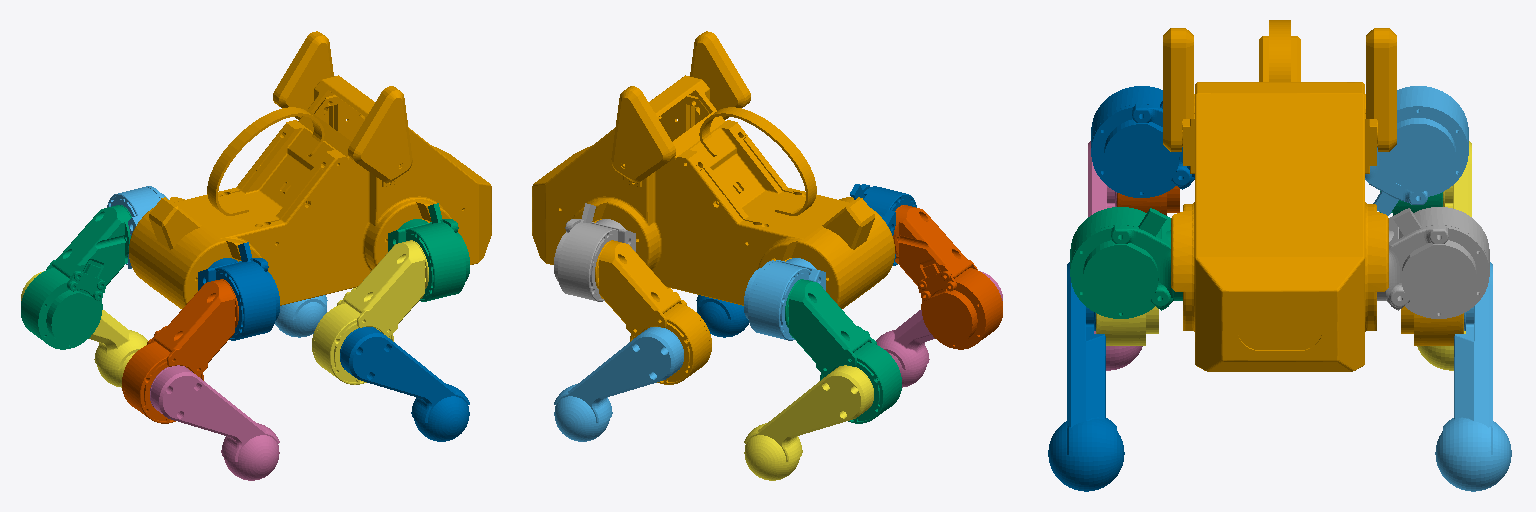
The robot description file, URDF, robot "pupper_v3":
<robot name="pupper_v3" version="1.0">

  <joint name="leg_front_r_1" type="revolute">
    <limit lower="-1.22000" upper="2.51000" effort="3.00000" velocity="100.00000" />
    <origin rpy="1.57080 0.00000 0.00000" xyz="0.07500 -0.08350 0.00000" />
    <parent link="base_link" />
    <child link="leg_front_r_1" />
    <axis xyz="0.00000 0.00000 1.00000" />
  </joint>
  <joint name="leg_front_r_2" type="revolute">
    <limit lower="-0.42000" upper="3.14000" effort="3.00000" velocity="100.00000" />
    <origin rpy="1.49199 -1.57080 -1.49198" xyz="0.00000 0.00000 0.00000" />
    <parent link="leg_front_r_1" />
    <child link="leg_front_r_2" />
    <axis xyz="0.00000 0.00000 1.00000" />
  </joint>
  <joint name="leg_front_r_3" type="revolute">
    <limit lower="-2.79000" upper="0.63000" effort="3.00000" velocity="100.00000" />
    <origin rpy="-0.00000 1.57080 0.00000" xyz="0.00000 -0.04940 0.06850" />
    <parent link="leg_front_r_2" />
    <child link="leg_front_r_3" />
    <axis xyz="0.00000 0.00000 1.00000" />
  </joint>

  <joint name="leg_front_l_1" type="revolute">
    <limit lower="-1.22000" upper="2.51000" effort="3.00000" velocity="100.00000" />
    <origin rpy="-1.57080 0.00000 0.00000" xyz="0.07500 0.08350 0.00000" />
    <parent link="base_link" />
    <child link="leg_front_l_1" />
    <axis xyz="0.00000 0.00000 1.00000" />
  </joint>
  <joint name="leg_front_l_2" type="revolute">
    <limit lower="-0.42000" upper="3.14000" effort="3.00000" velocity="100.00000" />
    <origin rpy="1.57080 1.57080 -1.57080" xyz="0.00000 0.00000 0.00000" />
    <parent link="leg_front_l_1" />
    <child link="leg_front_l_2" />
    <axis xyz="0.00000 0.00000 1.00000" />
  </joint>
  <joint name="leg_front_l_3" type="revolute">
    <limit lower="-2.79000" upper="0.63000" effort="3.00000" velocity="100.00000" />
    <origin rpy="-0.00000 1.57080 3.14159" xyz="0.00000 -0.04940 0.06850" />
    <parent link="leg_front_l_2" />
    <child link="leg_front_l_3" />
    <axis xyz="0.00000 0.00000 1.00000" />
  </joint>


  <joint name="leg_back_r_1" type="revolute">
    <limit lower="-1.22000" upper="2.51000" effort="3.00000" velocity="100.00000" />
    <origin rpy="1.57080 0.00000 0.00000" xyz="-0.07500 -0.07250 0.00000" />
    <parent link="base_link" />
    <child link="leg_back_r_1" />
    <axis xyz="0.00000 0.00000 1.00000" />
  </joint>
  <joint name="leg_back_r_2" type="revolute">
    <limit lower="-0.42000" upper="3.14000" effort="3.00000" velocity="100.00000" />
    <origin rpy="1.49199 -1.57080 -1.49198" xyz="0.00000 0.00000 0.00000" />
    <parent link="leg_back_r_1" />
    <child link="leg_back_r_2" />
    <axis xyz="0.00000 0.00000 1.00000" />
  </joint>
  <joint name="leg_back_r_3" type="revolute">
    <limit lower="-2.79000" upper="0.63000" effort="3.00000" velocity="100.00000" />
    <origin rpy="-0.00000 1.57080 0.00000" xyz="0.00000 -0.04940 0.06850" />
    <parent link="leg_back_r_2" />
    <child link="leg_back_r_3" />
    <axis xyz="0.00000 0.00000 1.00000" />
  </joint>

  <joint name="leg_back_l_1" type="revolute">
    <limit lower="-1.22000" upper="2.51000" effort="3.00000" velocity="100.00000" />
    <origin rpy="-1.57080 0.00000 0.00000" xyz="-0.07500 0.07250 0.00000" />
    <parent link="base_link" />
    <child link="leg_back_l_1" />
    <axis xyz="0.00000 0.00000 1.00000" />
  </joint>
  <joint name="leg_back_l_2" type="revolute">
    <limit lower="-0.42000" upper="3.14000" effort="3.00000" velocity="100.00000" />
    <origin rpy="1.57080 1.57080 -1.57080" xyz="0.00000 0.00000 0.00000" />
    <parent link="leg_back_l_1" />
    <child link="leg_back_l_2" />
    <axis xyz="0.00000 0.00000 1.00000" />
  </joint>
  <joint name="leg_back_l_3" type="revolute">
    <limit lower="-2.79000" upper="0.63000" effort="3.00000" velocity="100.00000" />
    <origin rpy="-0.00000 1.57080 3.14159" xyz="0.00000 -0.04940 0.06850" />
    <parent link="leg_back_l_2" />
    <child link="leg_back_l_3" />
    <axis xyz="0.00000 0.00000 1.00000" />
  </joint>


  <link name="base_link">
    <collision name="body_collision">
      <origin rpy="-1.57080 -0.00000 1.57080" xyz="0.02146 -0.00000 0.03345" />
      <geometry>
        <box size="0.09014 0.12758 0.25943" />
      </geometry>
    </collision>
    <inertial>
      <inertia ixx="0.00240" ixy="0.000000" ixz="-0.0005" iyy="0.00850" iyz="0.00000" izz="0.00850" />
      <origin rpy="0.00000 0.00000 0.00000" xyz="0.02500 0.00000 0.01500" />
      <mass value="1.506" />
    </inertial>
    <visual name="body">
      <origin rpy="-1.57080 -0.00000 1.57080" xyz="0.00000 0.00000 0.00000" />
      <geometry>
        <mesh filename="../meshes/dae/Body V4 v70.001.dae" scale="1.00000 1.00000 1.00000" />
      </geometry>
    </visual>
  </link>
  <link name="leg_back_l_1">
    <inertial>
      <inertia ixx="0.000074" ixy="0.0" ixz="0.0" iyy="0.000058" iyz="0.0" izz="0.000048" />
      <origin rpy="0.00000 0.00000 0.00000" xyz="-0.00129 0.00081 -0.00595" />
      <mass value="0.18000" />
    </inertial>
    <visual name="Leg Assembly For Flanged v26.012">
      <origin rpy="0.00000 0.00000 3.14159" xyz="0.00000 0.00000 -0.02800" />
      <geometry>
        <mesh filename="../meshes/dae/Leg Assembly For Flanged v26.013.dae"
          scale="1.00000 1.00000 1.00000" />
      </geometry>
    </visual>
  </link>
  <link name="leg_back_l_2">
    <collision name="Cylinder.003">
      <origin rpy="-0.00000 1.57080 0.00000" xyz="0.00000 -0.04940 0.06850" />
      <geometry>
        <cylinder radius="0.02500" length="0.03000" />
      </geometry>
    </collision>
    <inertial>
      <inertia ixx="0.000113" ixy="0.0" ixz="0.0" iyy="0.000067" iyz="0.000025" izz="0.000077" />
      <origin rpy="0.00000 0.00000 0.00000" xyz="-0.00173 -0.03340 0.05419" />
      <mass value="0.18600" />
    </inertial>
    <visual name="Leg Assembly For Flanged v26.013">
      <origin rpy="0.26213 -1.57080 2.87947" xyz="+0.02800 -0.00000 -0.00000" />
      <geometry>
        <mesh filename="../meshes/dae/Leg Assembly For Flanged v26.014.dae"
          scale="1.00000 1.00000 -1.00000" />
      </geometry>
    </visual>
  </link>
  <link name="leg_back_l_3">
    <collision name="Leg Assembly For Flanged v26.016">
      <origin rpy="-0.00000 0.00000 3.14159" xyz="0.06231 0.06216 0.01800" />
      <geometry>
        <sphere radius="0.01995" />
      </geometry>
    </collision>
    <inertial>
      <inertia ixx="0.0000405" ixy="-0.000035" ixz="0.0" iyy="0.0000405" iyz="0.0" izz="0.000077" />
      <origin rpy="0.00000 0.00000 0.00000" xyz="0.03866 0.03585 0.01833" />
      <mass value="0.05000" />
    </inertial>
    <visual name="Leg Assembly For Flanged v26.014">
      <origin rpy="3.14159 0.00000 3.14159" xyz="0.06850 -0.04940 -0.02800" />
      <geometry>
        <mesh filename="../meshes/dae/Leg Assembly For Flanged v26.015.dae"
          scale="1.00000 1.00000 -1.00000" />
      </geometry>
    </visual>
  </link>
  <link name="leg_back_r_1">
    <inertial>
      <inertia ixx="0.000074" ixy="0.0" ixz="0.0" iyy="0.000058" iyz="0.0" izz="0.000048" />
      <origin rpy="0.00000 0.00000 0.00000" xyz="-0.00129 0.00081 -0.00595" />
      <mass value="0.18000" />
    </inertial>
    <visual name="Leg Assembly For Flanged v26.004">
      <origin rpy="0.00000 0.00000 3.14159" xyz="0.00000 0.00000 -0.02800" />
      <geometry>
        <mesh filename="../meshes/dae/Leg Assembly For Flanged v26.005.dae"
          scale="1.00000 1.00000 1.00000" />
      </geometry>
    </visual>
  </link>
  <link name="leg_back_r_2">
    <collision name="Cylinder.001">
      <origin rpy="-0.00000 1.57080 0.00000" xyz="0.00000 -0.04940 0.06850" />
      <geometry>
        <cylinder radius="0.02500" length="0.03000" />
      </geometry>
    </collision>
    <inertial>
      <inertia ixx="0.000113" ixy="0.0" ixz="0.0" iyy="0.000067" iyz="0.000025" izz="0.000077" />
      <origin rpy="0.00000 0.00000 0.00000" xyz="-0.00173 -0.03340 0.05419" />
      <mass value="0.18600" />
    </inertial>
    <visual name="Leg Assembly For Flanged v26.005">
      <origin rpy="0.26213 -1.57080 2.87947" xyz="-0.02800 -0.00000 -0.00000" />
      <geometry>
        <mesh filename="../meshes/dae/Leg Assembly For Flanged v26.006.dae"
          scale="1.00000 1.00000 1.00000" />
      </geometry>
    </visual>
  </link>
  <link name="leg_back_r_3">
    <collision name="Leg Assembly For Flanged v26.008">
      <origin rpy="-0.00000 0.00000 3.14159" xyz="0.06231 -0.06216 0.01800" />
      <geometry>
        <sphere radius="0.01995" />
      </geometry>
    </collision>
    <inertial>
      <inertia ixx="0.0000405" ixy="0.000035" ixz="0.0" iyy="0.0000405" iyz="0.0" izz="0.000077" />
      <origin rpy="0.00000 0.00000 0.00000" xyz="0.03866 -0.03585 0.01833" />
      <mass value="0.05000" />
    </inertial>
    <visual name="Leg Assembly For Flanged v26.006">
      <origin rpy="-0.00000 0.00000 3.14159" xyz="0.06850 0.04940 -0.02800" />
      <geometry>
        <mesh filename="../meshes/dae/Leg Assembly For Flanged v26.007.dae"
          scale="1.00000 1.00000 1.00000" />
      </geometry>
    </visual>
  </link>
  <link name="leg_front_l_1">
    <inertial>
      <inertia ixx="0.000074" ixy="0.0" ixz="0.0" iyy="0.000058" iyz="0.0" izz="0.000048" />
      <origin rpy="0.00000 0.00000 0.00000" xyz="-0.00129 0.00081 -0.00595" />
      <mass value="0.18000" />
    </inertial>
    <visual name="Leg Assembly For Flanged v26.009">
      <origin rpy="0.00000 0.00000 3.14159" xyz="0.00000 0.00000 -0.02800" />
      <geometry>
        <mesh filename="../meshes/dae/Leg Assembly For Flanged v26.010.dae"
          scale="1.00000 -1.00000 1.00000" />
      </geometry>
    </visual>
  </link>
  <link name="leg_front_l_2">
    <collision name="Cylinder.002">
      <origin rpy="-0.00000 1.57080 0.00000" xyz="0.00000 -0.04940 0.06850" />
      <geometry>
        <cylinder radius="0.02500" length="0.03000" />
      </geometry>
    </collision>
    <inertial>
      <inertia ixx="0.000113" ixy="0.0" ixz="0.0" iyy="0.000067" iyz="0.000025" izz="0.000077" />
      <origin rpy="0.00000 0.00000 0.00000" xyz="-0.00173 -0.03340 0.05419" />
      <mass value="0.18600" />
    </inertial>
    <visual name="Leg Assembly For Flanged v26.010">
      <origin rpy="0.26213 -1.57080 2.87947" xyz="+0.02800 -0.00000 -0.00000" />
      <geometry>
        <mesh filename="../meshes/dae/Leg Assembly For Flanged v26.011.dae"
          scale="1.00000 1.00000 -1.00000" />
      </geometry>
    </visual>
  </link>
  <link name="leg_front_l_3">
    <collision name="Leg Assembly For Flanged v26.015">
      <origin rpy="-0.00000 0.00000 3.14159" xyz="0.06231 0.06216 0.01800" />
      <geometry>
        <sphere radius="0.01995" />
      </geometry>
    </collision>
    <inertial>
      <inertia ixx="0.0000405" ixy="-0.000035" ixz="0.0" iyy="0.0000405" iyz="0.0" izz="0.000077" />
      <origin rpy="0.00000 0.00000 0.00000" xyz="0.03866 0.03585 0.01833" />
      <mass value="0.05000" />
    </inertial>
    <visual name="Leg Assembly For Flanged v26.011">
      <origin rpy="3.14159 0.00000 3.14159" xyz="0.06850 -0.04940 -0.02800" />
      <geometry>
        <mesh filename="../meshes/dae/Leg Assembly For Flanged v26.012.dae"
          scale="1.00000 1.00000 -1.00000" />
      </geometry>
    </visual>
  </link>
  <link name="leg_front_r_1">
    <inertial>
      <inertia ixx="0.000074" ixy="0.0" ixz="0.0" iyy="0.000058" iyz="0.0" izz="0.000048" />
      <origin rpy="0.00000 0.00000 0.00000" xyz="-0.00129 0.00081 -0.00595" />
      <mass value="0.18000" />
    </inertial>
    <visual name="Leg Assembly For Flanged v26.001">
      <origin rpy="0.00000 0.00000 3.14159" xyz="0.00000 0.00000 -0.02800" />
      <geometry>
        <mesh filename="../meshes/dae/Leg Assembly For Flanged v26.001.dae"
          scale="1.00000 1.00000 1.00000" />
      </geometry>
    </visual>
  </link>
  <link name="leg_front_r_2">
    <collision name="Cylinder">
      <origin rpy="-0.00000 1.57080 0.00000" xyz="0.00000 -0.04940 0.06850" />
      <geometry>
        <cylinder radius="0.02500" length="0.03000" />
      </geometry>
    </collision>
    <inertial>
      <inertia ixx="0.000113" ixy="0.0" ixz="0.0" iyy="0.000067" iyz="0.000025" izz="0.000077" />
      <origin rpy="0.00000 0.00000 0.00000" xyz="-0.00173 -0.03340 0.05419" />
      <mass value="0.18600" />
    </inertial>
    <visual name="Leg Assembly For Flanged v26.002">
      <origin rpy="0.26213 -1.57080 2.87947" xyz="-0.02800 -0.00000 -0.00000" />
      <geometry>
        <mesh filename="../meshes/dae/Leg Assembly For Flanged v26.002.dae"
          scale="1.00000 1.00000 1.00000" />
      </geometry>
    </visual>
  </link>
  <link name="leg_front_r_3">
    <collision name="Leg Assembly For Flanged v26.007">
      <origin rpy="-0.00000 0.00000 3.14159" xyz="0.06231 -0.06216 0.01800" />
      <geometry>
        <sphere radius="0.01995" />
      </geometry>
    </collision>
    <inertial>
      <inertia ixx="0.0000405" ixy="0.000035" ixz="0.0" iyy="0.0000405" iyz="0.0" izz="0.000077" />
      <origin rpy="0.00000 0.00000 0.00000" xyz="0.03866 -0.03585 0.01833" />
      <mass value="0.05000" />
    </inertial>
    <visual name="Leg Assembly For Flanged v26.003">
      <origin rpy="-0.00000 0.00000 3.14159" xyz="0.06850 0.04940 -0.02800" />
      <geometry>
        <mesh filename="../meshes/dae/Leg Assembly For Flanged v26.003.dae"
          scale="1.00000 1.00000 1.00000" />
      </geometry>
    </visual>
  </link>
</robot>

--- What the picture shows (computed from the rendered views, not written in the file) ---
3 views of the same robot in one strip: view 1: azimuth 30°, elevation 25°; view 2: azimuth 150°, elevation 25°; view 3: azimuth 270°, elevation 25° (orthographic).
Model pupper_v3 with 13 links and 12 joints (12 revolute), rooted at base_link, posed all joints at 0.
Visible links, largest first — view 1: base_link, leg_back_l_2, leg_back_r_2, leg_front_r_2, leg_front_r_3, leg_back_r_3, leg_front_r_1, leg_back_r_1, leg_back_l_3, leg_front_l_3, leg_back_l_1; view 2: base_link, leg_back_r_2, leg_back_l_2, leg_front_l_2, leg_front_l_3, leg_back_l_3, leg_front_l_1, leg_back_l_1, leg_back_r_3, leg_front_r_3, leg_back_r_1; view 3: base_link, leg_front_l_1, leg_front_r_1, leg_front_l_3, leg_front_r_3, leg_back_l_1, leg_back_r_1, leg_back_l_3, leg_back_r_3, leg_front_l_2, leg_front_r_2, leg_back_r_2.
Link boxes in pixels (bbox=[...]): base_link: bbox=[129, 31, 491, 308]; leg_back_l_2: bbox=[21, 205, 131, 349]; leg_back_r_2: bbox=[122, 279, 238, 423]; leg_front_r_2: bbox=[312, 240, 428, 384]; leg_front_r_3: bbox=[340, 327, 469, 441]; leg_back_r_3: bbox=[150, 365, 279, 480]; leg_front_r_1: bbox=[388, 203, 469, 301]; leg_back_r_1: bbox=[198, 242, 279, 340]; leg_back_l_3: bbox=[21, 271, 147, 387]; leg_front_l_3: bbox=[275, 295, 327, 337]; leg_back_l_1: bbox=[107, 186, 168, 268]; base_link: bbox=[532, 31, 894, 308]; leg_back_r_2: bbox=[893, 205, 1002, 349]; leg_back_l_2: bbox=[785, 279, 901, 423]; leg_front_l_2: bbox=[595, 240, 711, 384]; leg_front_l_3: bbox=[554, 327, 683, 441]; leg_back_l_3: bbox=[744, 365, 873, 480]; leg_front_l_1: bbox=[554, 203, 635, 301]; leg_back_l_1: bbox=[744, 258, 825, 340]; leg_back_r_3: bbox=[876, 271, 1002, 387]; leg_front_r_3: bbox=[696, 295, 748, 337]; leg_back_r_1: bbox=[850, 184, 916, 265]; base_link: bbox=[1163, 20, 1396, 371]; leg_front_l_1: bbox=[1377, 207, 1489, 318]; leg_front_r_1: bbox=[1070, 207, 1182, 318]; leg_front_l_3: bbox=[1435, 262, 1511, 491]; leg_front_r_3: bbox=[1048, 262, 1124, 491]; leg_back_l_1: bbox=[1365, 86, 1468, 215]; leg_back_r_1: bbox=[1091, 86, 1194, 197]; leg_back_l_3: bbox=[1417, 141, 1471, 370]; leg_back_r_3: bbox=[1088, 141, 1142, 370]; leg_front_l_2: bbox=[1401, 306, 1463, 345]; leg_front_r_2: bbox=[1096, 306, 1158, 345]; leg_back_r_2: bbox=[1117, 186, 1179, 215].
Bounding box of the posed robot: 0.3212 × 0.243 × 0.2593 m (x, y, z).
Meshes: 13 distinct files referenced, 13 mesh visuals loaded (13 Collada DAE).